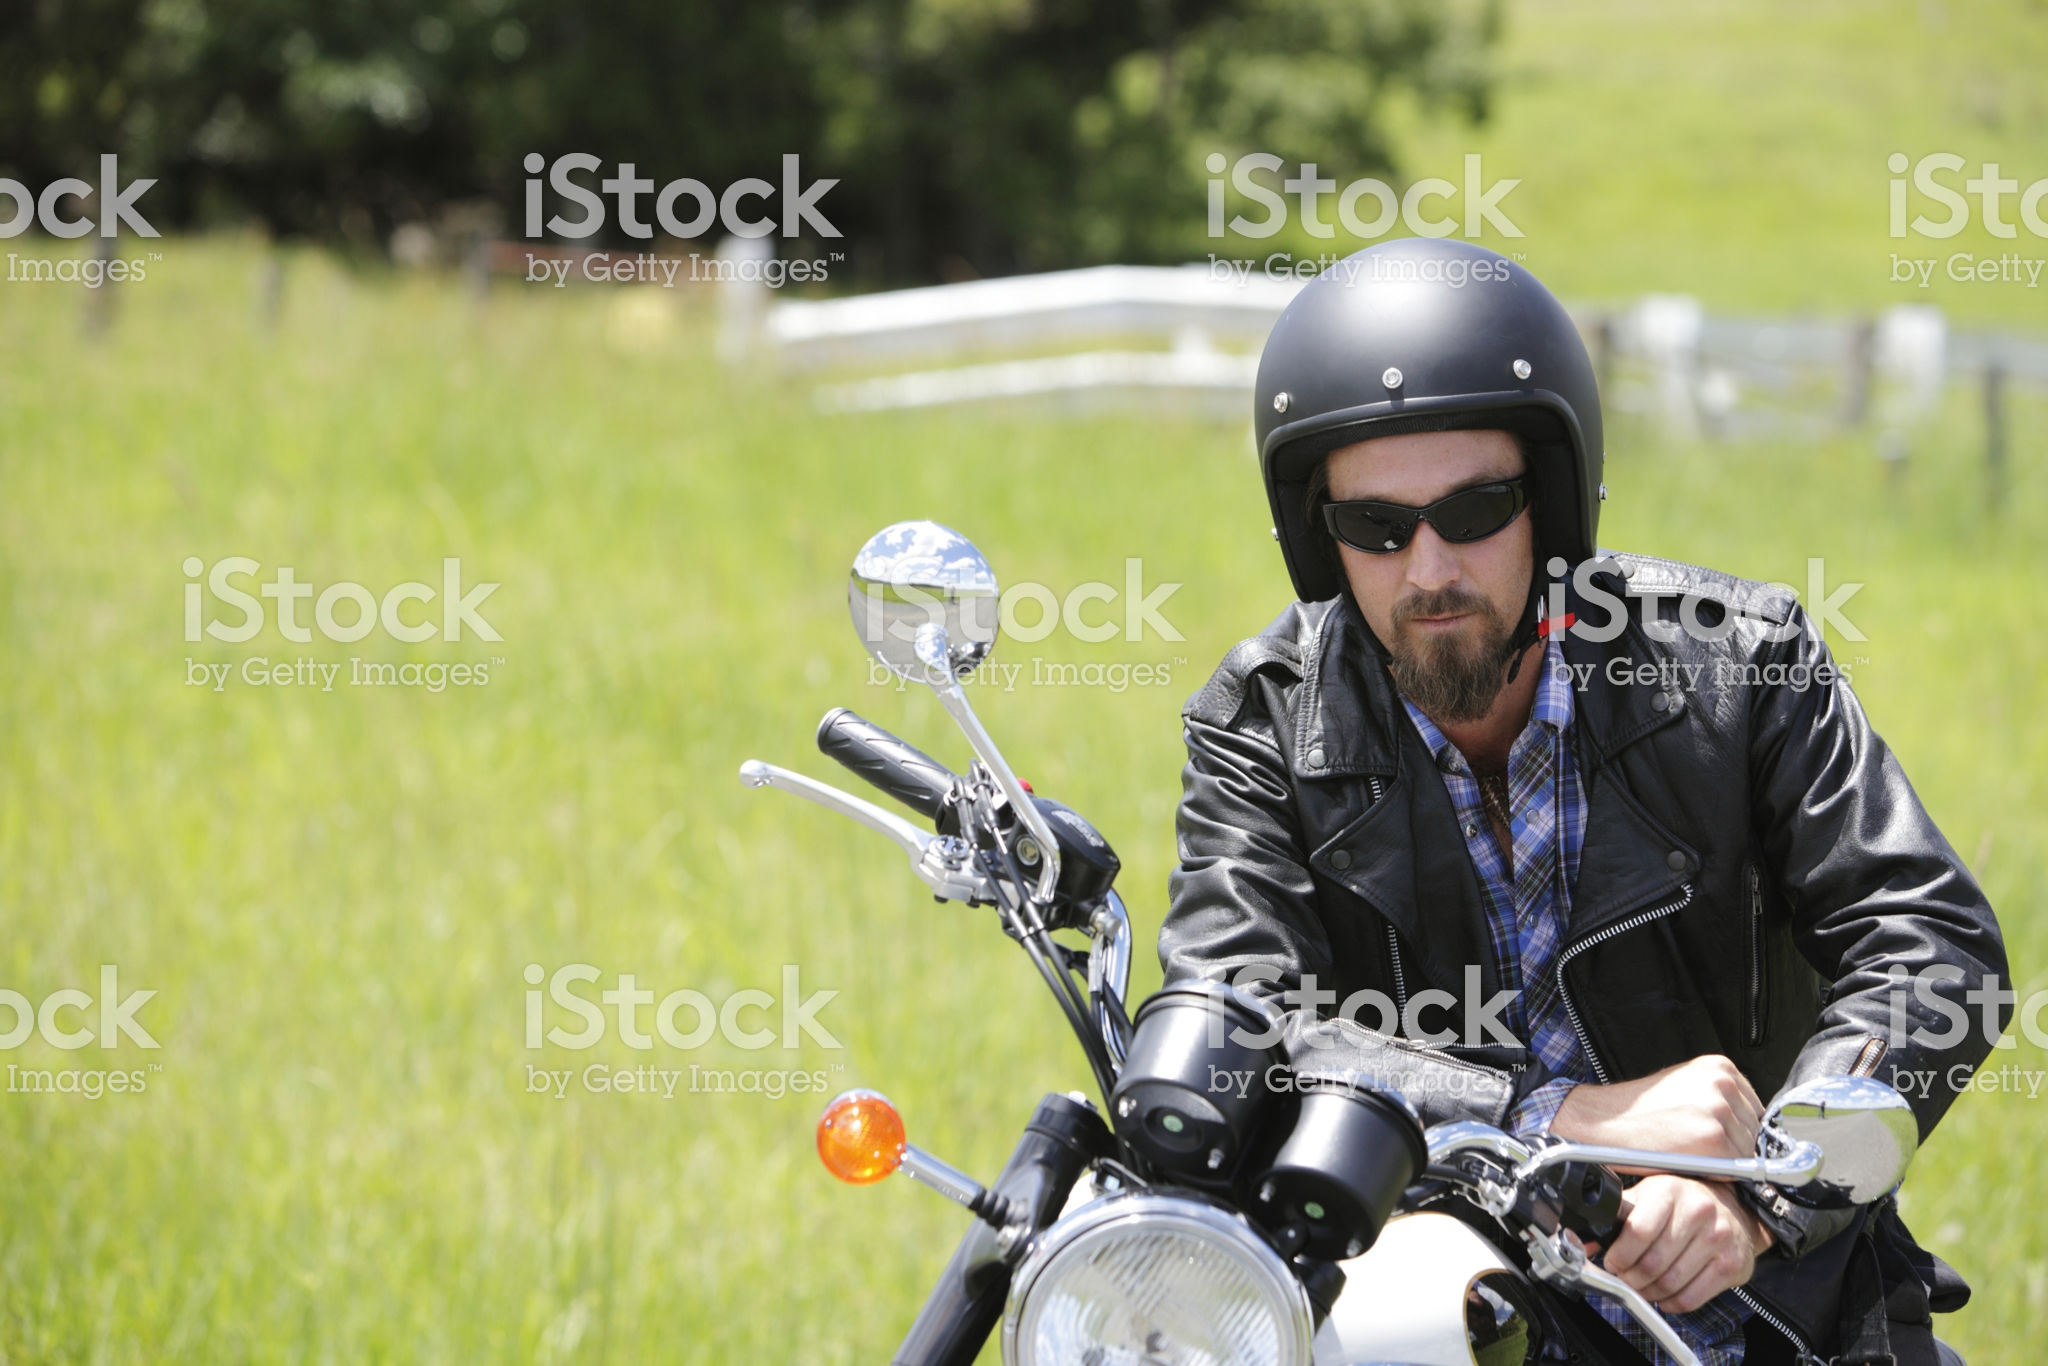helmet: (1218, 256, 1624, 529)
